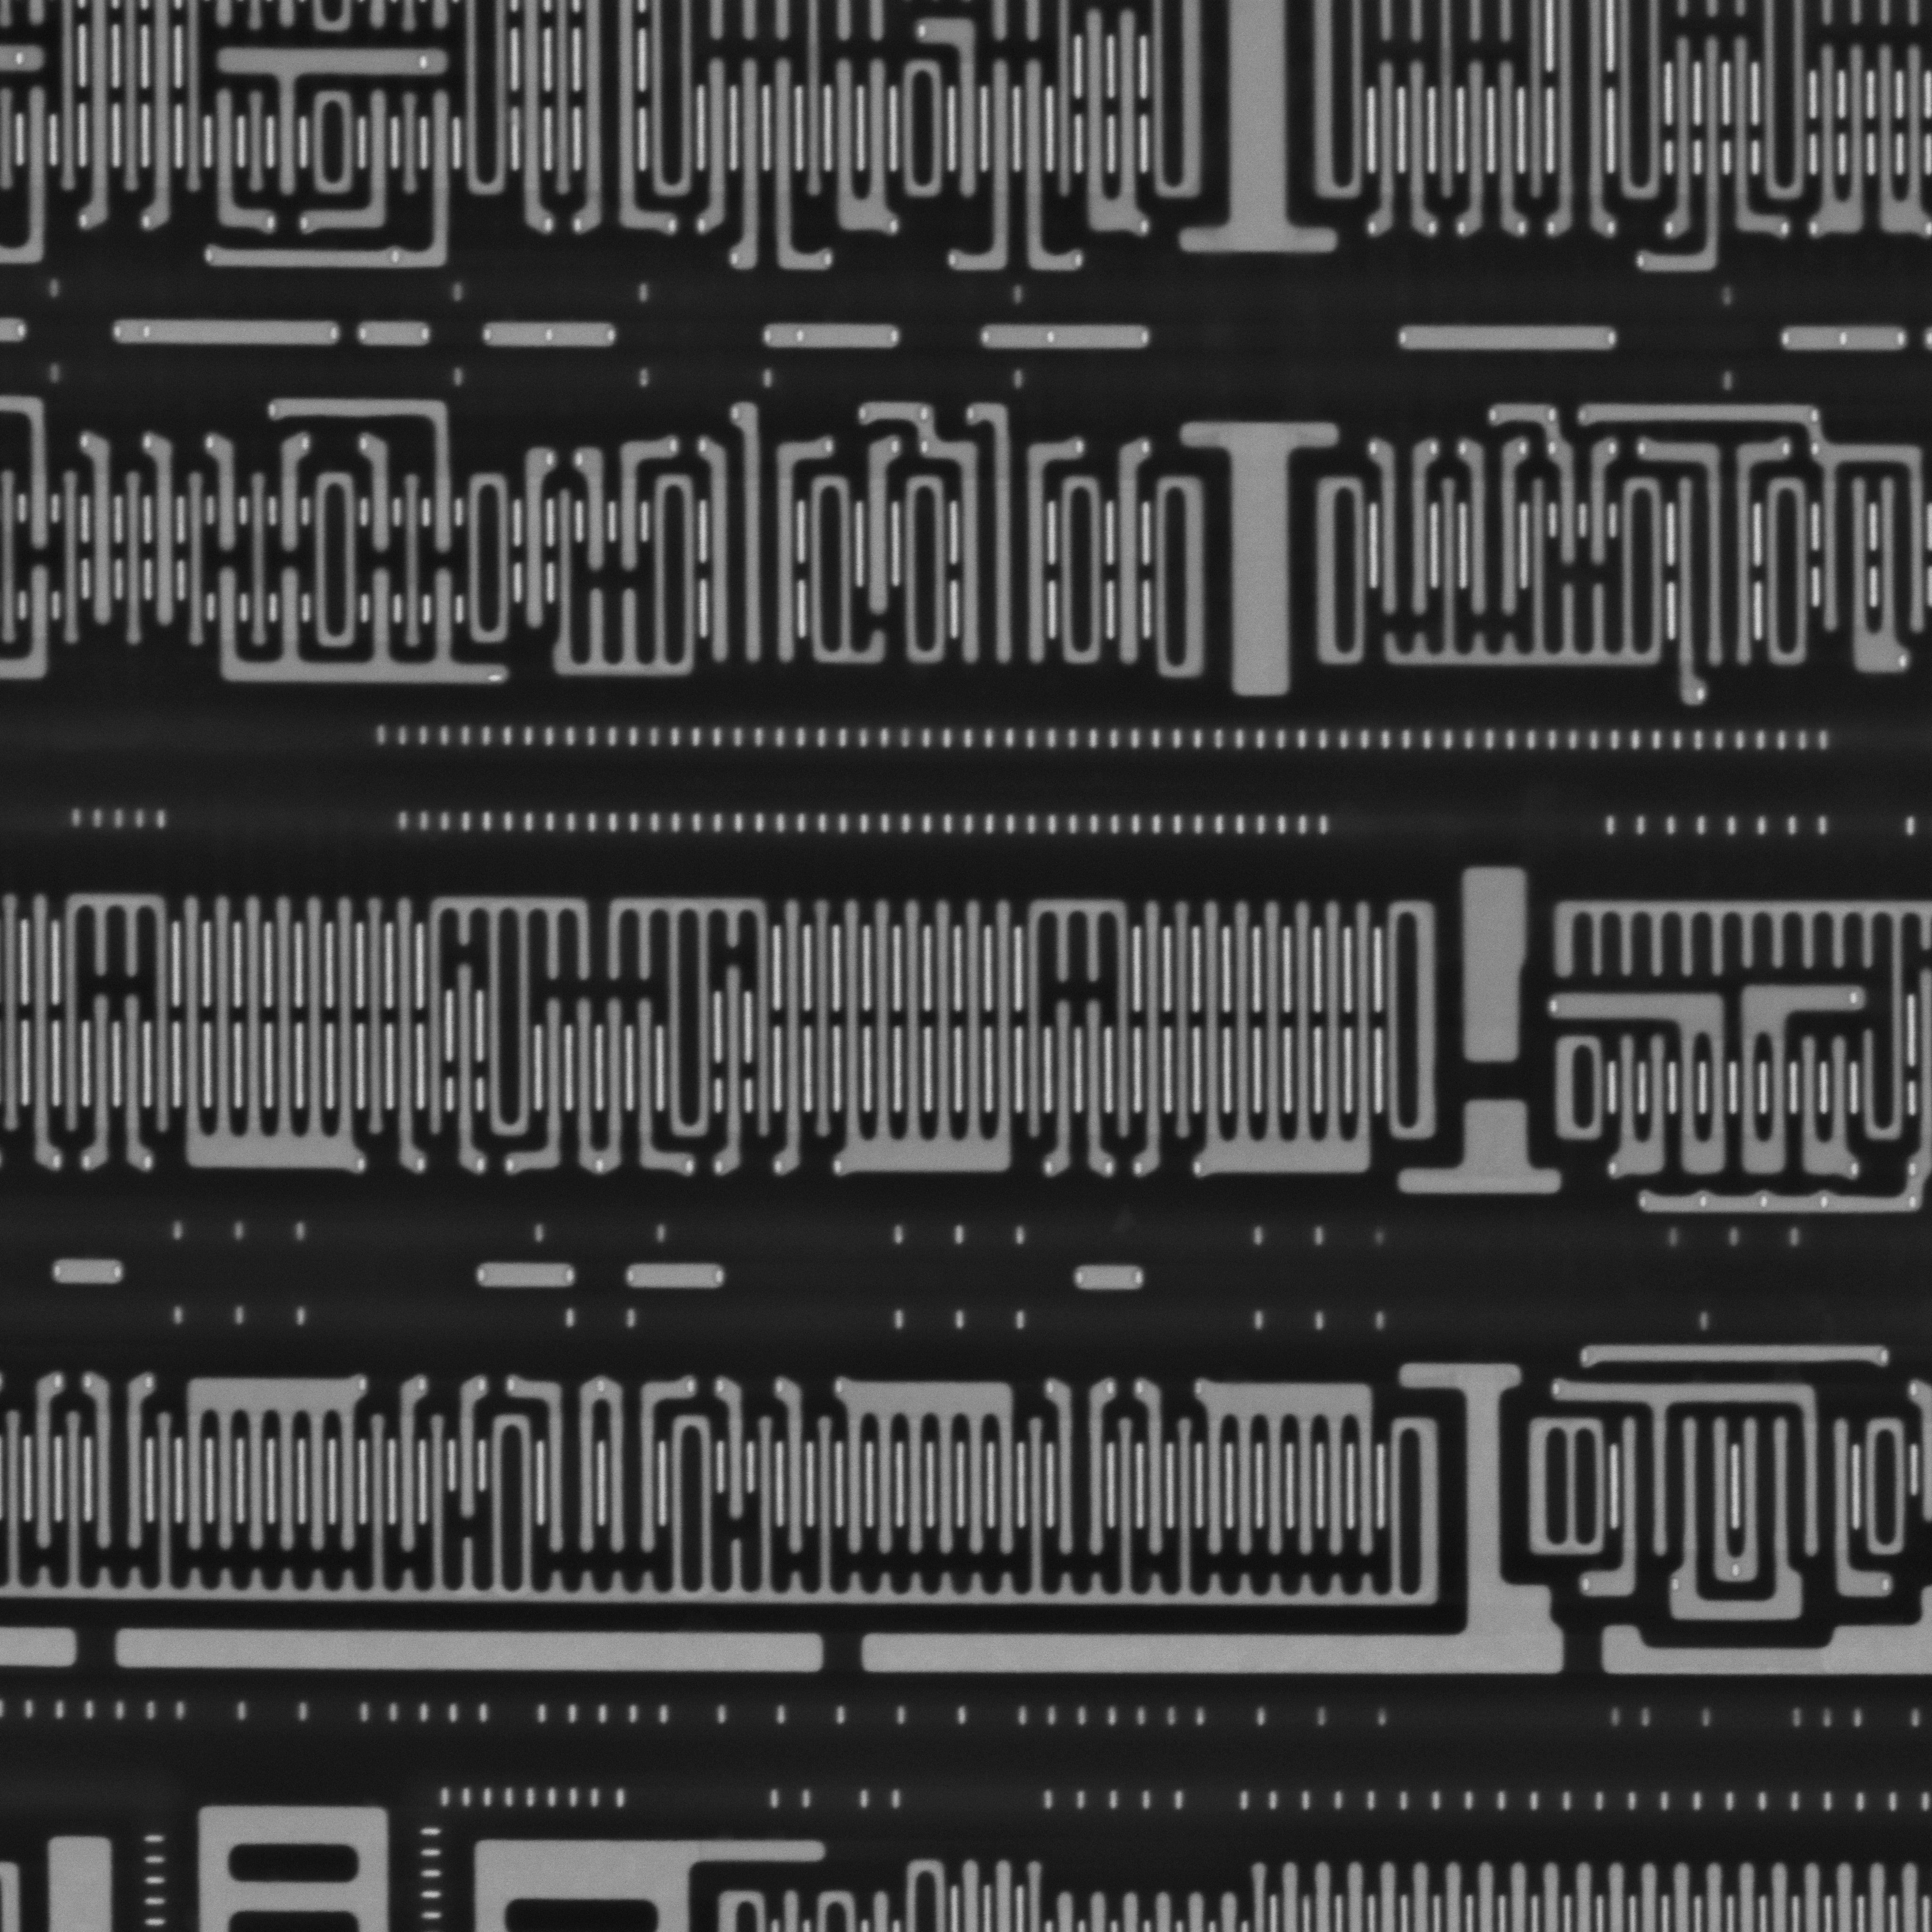circularDummy: (1456, 858, 1536, 1065)
doubleGate: (1072, 4, 1157, 241), (1803, 41, 1877, 244), (559, 991, 633, 1189), (824, 55, 902, 239), (1787, 1030, 1865, 1185), (1606, 1028, 1683, 1185)
insideDummy: (1177, 416, 1339, 713), (1398, 1097, 1573, 1201)
multiGate: (830, 892, 1030, 1178), (170, 893, 370, 1177), (1192, 895, 1389, 1178), (833, 1369, 1030, 1559), (175, 1369, 373, 1555), (1191, 1376, 1389, 1557)
publicGate: (1635, 435, 1790, 706), (692, 400, 833, 694), (1806, 428, 1932, 676), (1366, 433, 1445, 633), (83, 1369, 161, 1555), (1046, 1375, 1118, 1564), (1458, 437, 1532, 616)
resistor: (1573, 1339, 1897, 1376), (1398, 324, 1622, 352), (108, 317, 345, 343), (980, 322, 1154, 352), (479, 317, 621, 350), (763, 318, 904, 352), (1778, 320, 1913, 356), (621, 1260, 731, 1290), (472, 1261, 579, 1288), (46, 1258, 131, 1288), (1067, 1265, 1150, 1292), (357, 324, 433, 343)
singleGate: (1010, 48, 1088, 276), (948, 51, 1024, 276), (759, 57, 837, 274), (297, 85, 400, 234), (1716, 34, 1790, 239), (621, 989, 699, 1182), (913, 18, 991, 207), (19, 895, 71, 1177), (1102, 433, 1155, 679), (1127, 899, 1173, 1180), (73, 432, 131, 642), (387, 893, 432, 1169), (202, 90, 276, 234), (138, 430, 189, 633), (605, 435, 679, 575), (73, 985, 126, 1178), (510, 441, 561, 633), (1361, 58, 1412, 244), (711, 962, 755, 1177), (856, 433, 904, 632), (1398, 58, 1445, 246), (444, 962, 487, 1173), (1661, 32, 1704, 239), (382, 1369, 430, 1553), (1484, 62, 1534, 239), (770, 1376, 816, 1560), (694, 55, 740, 234), (21, 1371, 67, 1550), (1044, 996, 1086, 1184), (1454, 58, 1499, 237), (115, 991, 157, 1177), (1076, 994, 1116, 1184), (709, 1373, 755, 1529), (352, 430, 407, 559), (448, 1369, 488, 1527), (198, 430, 248, 554), (573, 441, 617, 575), (1580, 439, 1624, 573), (269, 428, 315, 552)
